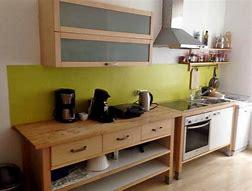cabinet_door: (53, 6, 152, 66), (53, 140, 101, 160), (104, 131, 139, 147), (142, 123, 169, 136)
handle: (187, 121, 210, 131), (68, 144, 88, 155), (116, 134, 130, 142), (151, 125, 163, 133), (103, 61, 120, 66)
